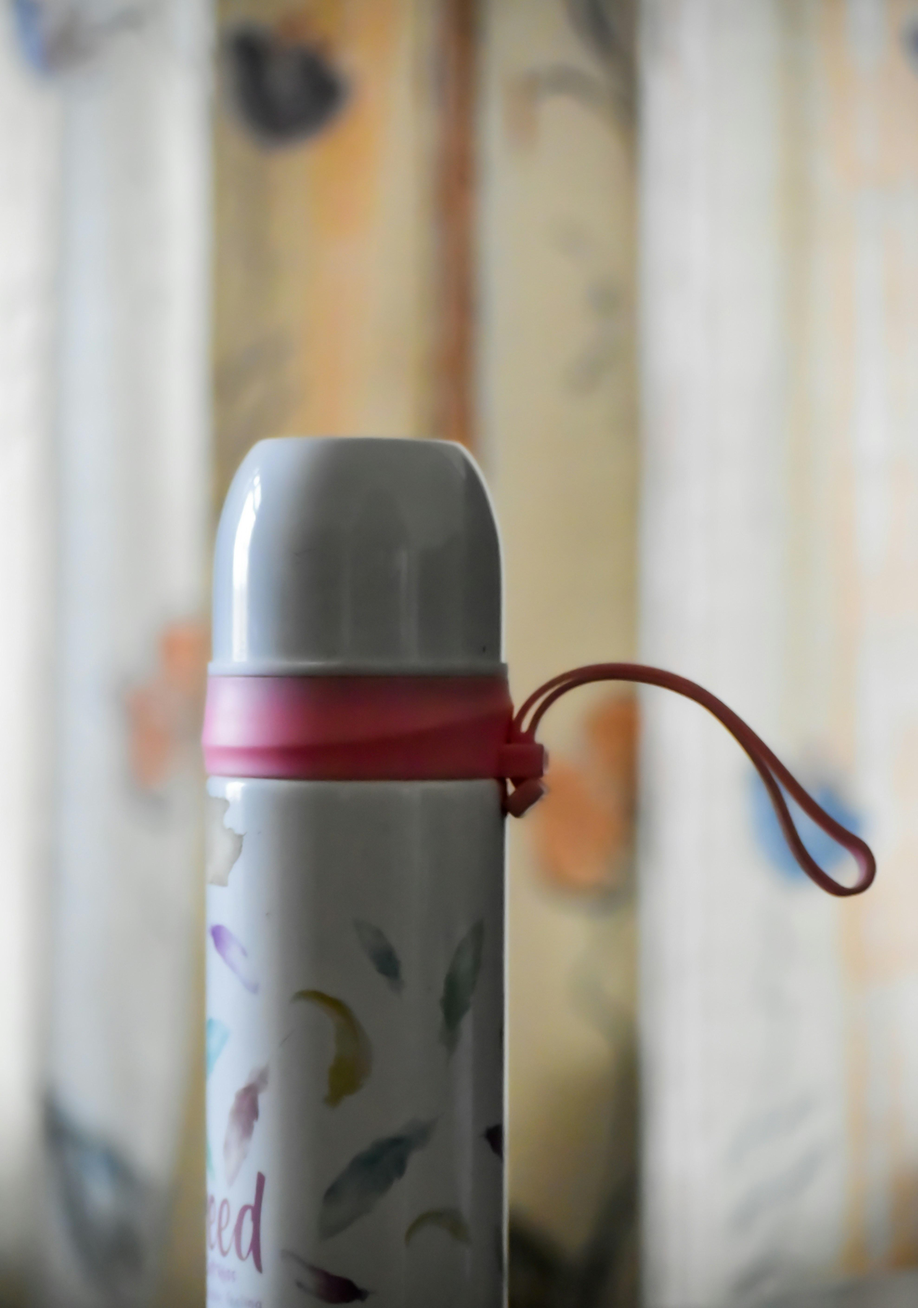Bottle-Detection: (135, 395, 597, 1308)
